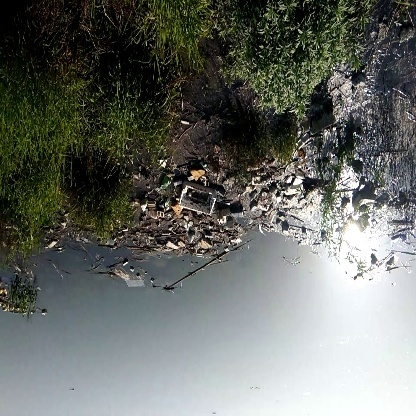branch: (164, 254, 230, 293)
